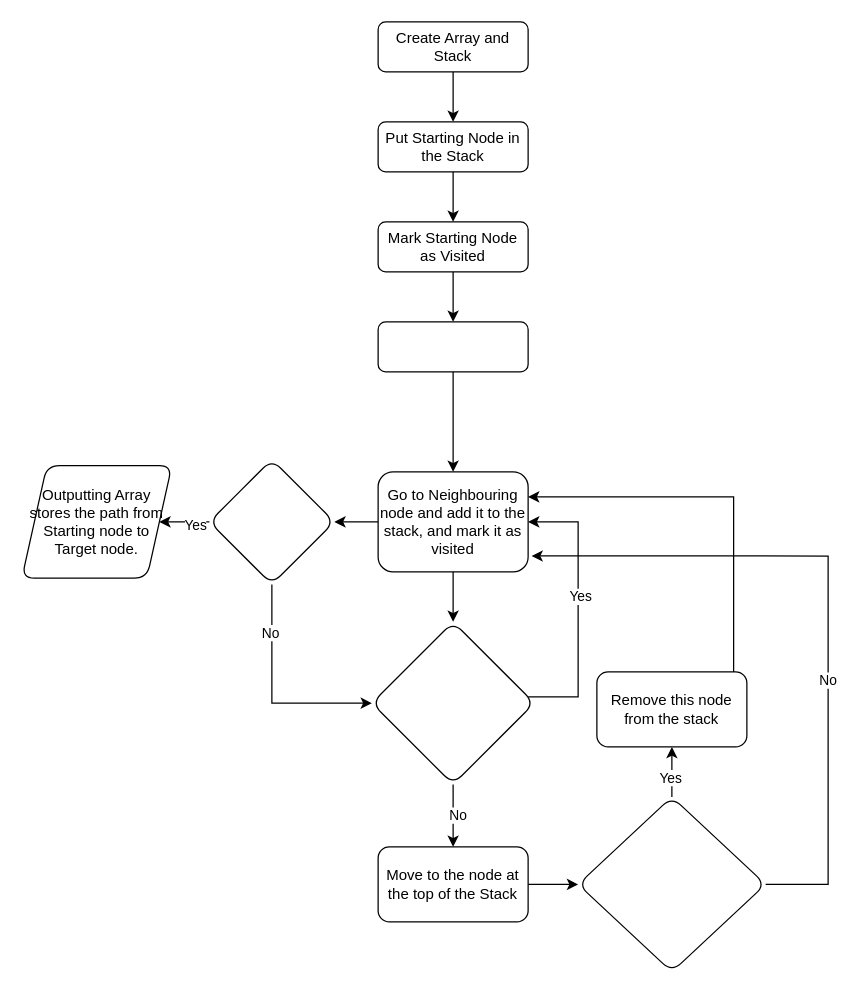
Some shapes in this 860 by 994 pixel diagram are drawn without their labels. Here are the shapes that lost their labels. From the top down, the centre of each, then its label:
At (452,346): "Add Starting Node to Array".
At (271,521): "Is this Target Node?".
At (452,702): "Are there any more neighbouring nodes?".
At (671,884): "Are there Neighbouring nodes?".
